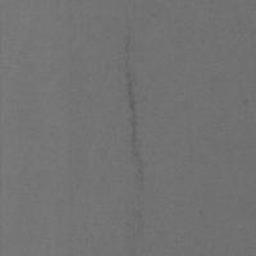Inclusion: (123, 63, 145, 192)
